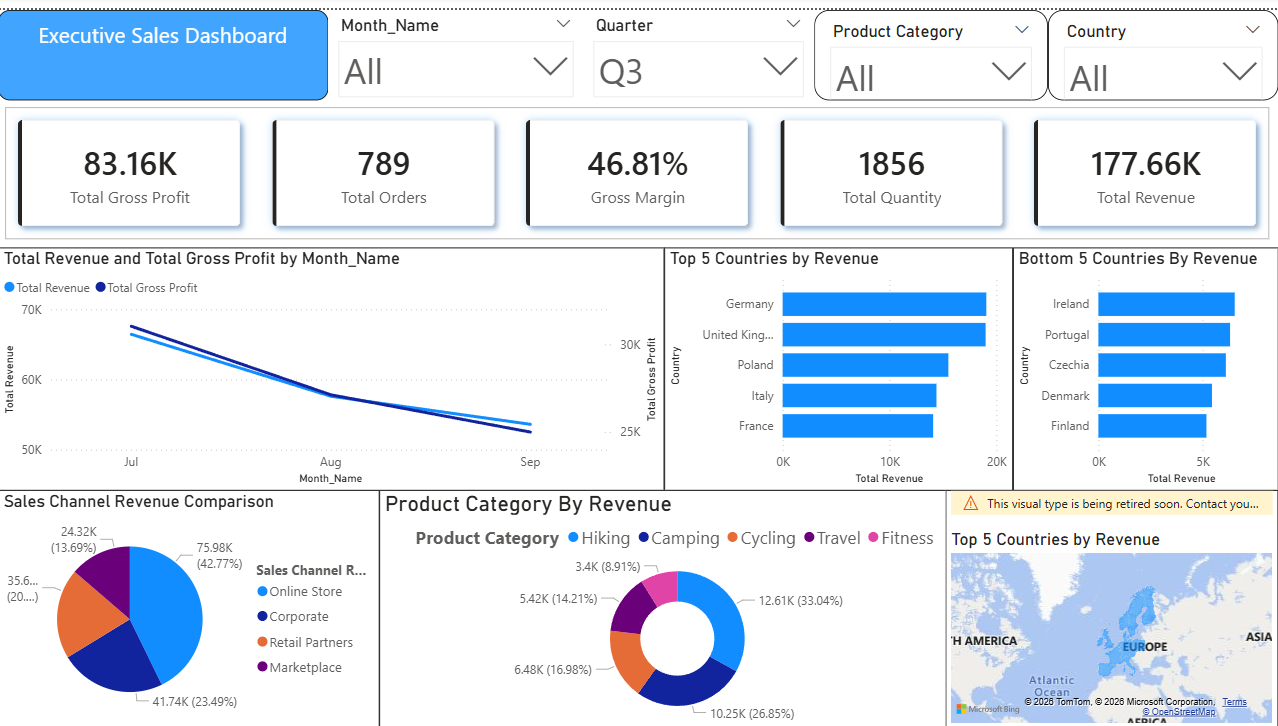

What the dashboard file says about the page in this screenshot:
{"tool":"powerbi","page":{"name":"Page 1","canvas":[1280,720],"ordinal":0},"visuals":[{"type":"cardVisual","fields":{"Data":["All_Measures.Total Gross Profit","All_Measures.Total Orders","All_Measures.Gross Margin","All_Measures.Total Quantity","All_Measures.Total Revenue"]},"box":[0,90.5,1280.3,146.7],"z":0},{"type":"textbox","box":[0,0,330.2,90.5],"z":1000},{"type":"slicer","fields":{"Values":["Date_Table.Month_Name"]},"box":[330.2,0,255.5,90.5],"z":2001,"group":"g1"},{"type":"slicer","fields":{"Values":["Date_Table.Quarter"]},"box":[585.7,0,230.6,90.5],"z":2002,"group":"g1"},{"type":"slicer","fields":{"Values":["Sales_Data.Product Category"]},"box":[816.3,0,233.5,90.5],"z":2003,"group":"g1"},{"type":"slicer","fields":{"Values":["Sales_Data.Country"]},"box":[1049.8,0,230.6,90.5],"z":2004,"group":"g1"},{"type":"group","id":"g1","title":"Group 1","box":[330.2,0,950.1,90.5],"z":2005},{"type":"lineChart","fields":{"Category":["Date_Table.Month_Name"],"Y":["All_Measures.Total Revenue"],"Y2":["All_Measures.Total Gross Profit"]},"box":[0,237.2,666.4,243.3],"z":2006},{"type":"clusteredBarChart","title":"Top 5 Countries by Revenue","fields":{"Y":["All_Measures.Total Revenue"],"Category":["Sales_Data.Country"]},"box":[666.4,237.2,348.5,243.3],"z":2007},{"type":"clusteredBarChart","title":"Bottom 5 Countries By Revenue","fields":{"Y":["All_Measures.Total Revenue"],"Category":["Sales_Data.Country"]},"box":[1015,237.2,265.4,243.3],"z":2008},{"type":"pieChart","title":"Sales Channel Revenue Comparison","fields":{"Y":["All_Measures.Total Revenue"],"Category":["Sales_Data.Sales Channel"]},"box":[0,480.3,381.5,240.1],"z":2009},{"type":"donutChart","title":"Product Category By Revenue","fields":{"Category":["Sales_Data.Product Category"],"Y":["All_Measures.Total Gross Profit"]},"box":[381.5,480.3,596.9,240.1],"z":2010},{"type":"filledMap","title":"Top 5 Countries by Revenue","fields":{"Category":["Sales_Data.Country"]},"box":[947.7,480.6,332.6,239.7],"z":2011}]}

Visuals, with their boxes in screenshot pixels (x1, y1, x2, y2), scaled from the page's 1280x720 canvas onto the 1278x726 screenshot:
cardVisual - All_Measures.Total Gross Profit x All_Measures.Total Orders: Rect(0, 91, 1277, 239)
textbox: Rect(0, 0, 330, 91)
slicer - Date_Table.Month_Name: Rect(330, 0, 585, 91)
slicer - Date_Table.Quarter: Rect(585, 0, 815, 91)
slicer - Sales_Data.Product Category: Rect(815, 0, 1048, 91)
slicer - Sales_Data.Country: Rect(1048, 0, 1277, 91)
"Group 1" group: Rect(330, 0, 1277, 91)
lineChart - Date_Table.Month_Name x All_Measures.Total Revenue: Rect(0, 239, 665, 485)
"Top 5 Countries by Revenue" clusteredBarChart: Rect(665, 239, 1013, 485)
"Bottom 5 Countries By Revenue" clusteredBarChart: Rect(1013, 239, 1277, 485)
"Sales Channel Revenue Comparison" pieChart: Rect(0, 484, 381, 725)
"Product Category By Revenue" donutChart: Rect(381, 484, 977, 725)
"Top 5 Countries by Revenue" filledMap: Rect(946, 485, 1277, 725)
